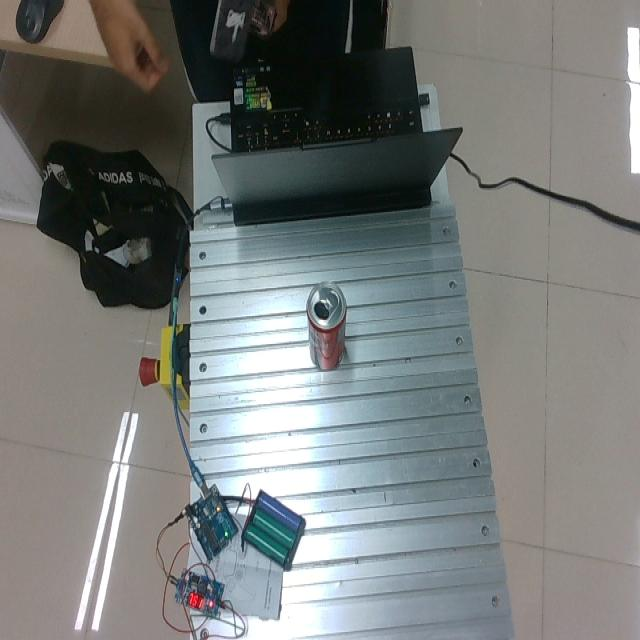coca: (306, 281, 347, 371)
